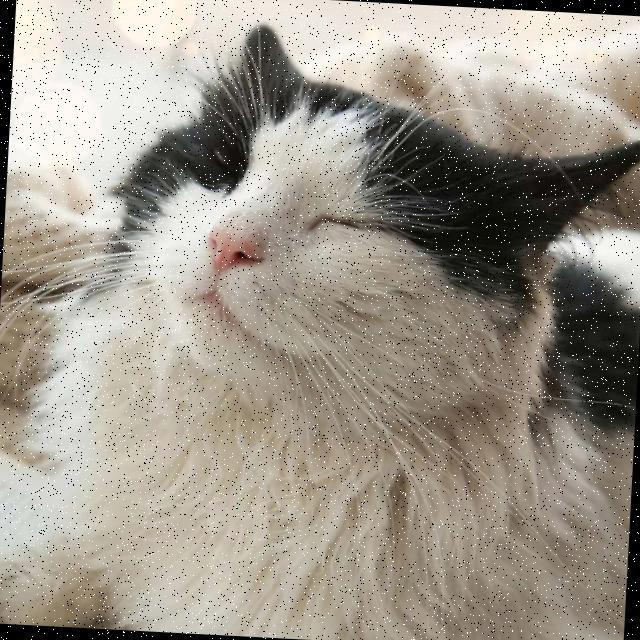Happy: (145, 98, 468, 417)
